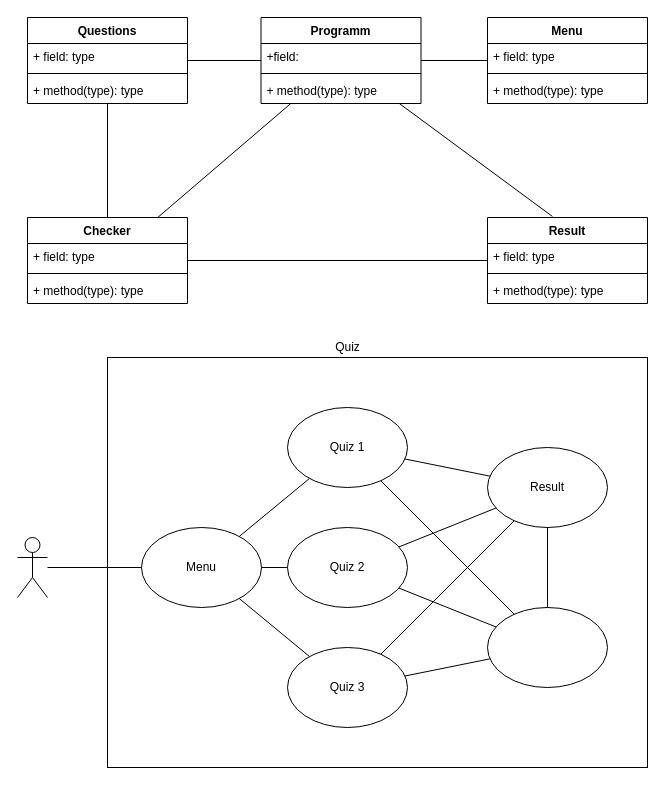
Some shapes in this 665 by 785 pixel diagram are drawn without their labels. The shapes that lost their labels are listed below. From the top down, each one's centre as x and y in pixels, then its label:
the point at 32,567: Actor
the point at 547,647: Review
